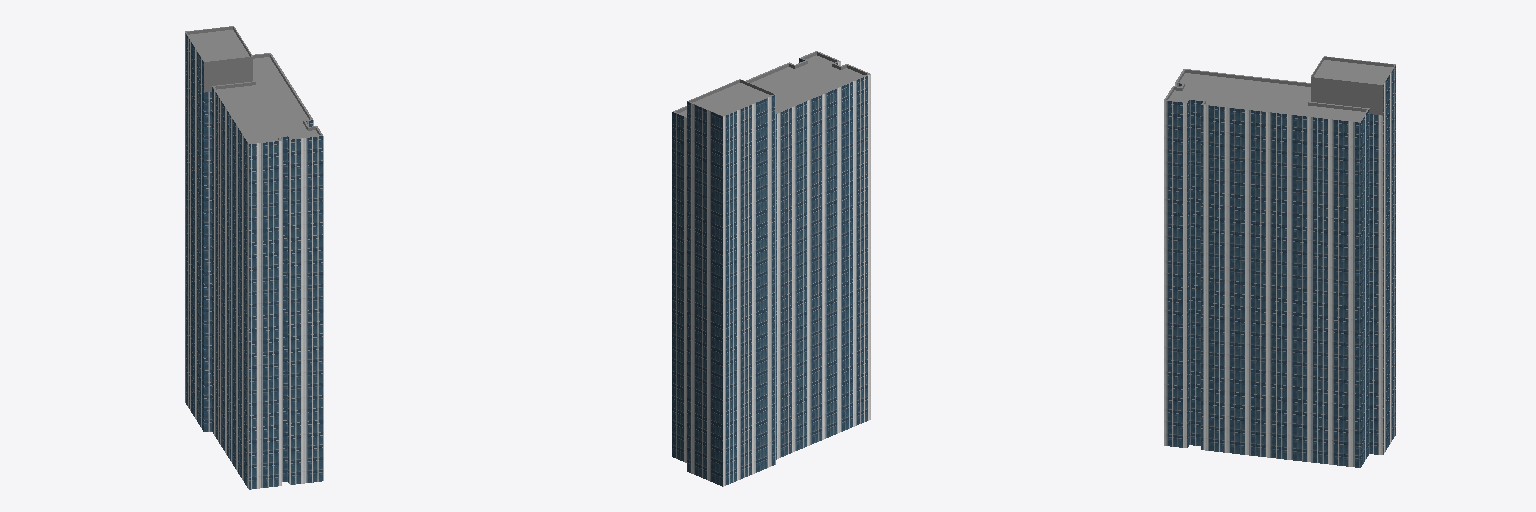
The picture shows the model from 3 angles: view 1: azimuth 30°, elevation 25°; view 2: azimuth 150°, elevation 25°; view 3: azimuth 270°, elevation 25°; orthographic projection.
Parts seen in each view (by area): view 1: JZ_JX_09; view 2: JZ_JX_09; view 3: JZ_JX_09.
Boxes of the visible parts, x1=… form: JZ_JX_09: x1=185, y1=26, x2=323, y2=489; JZ_JX_09: x1=672, y1=51, x2=870, y2=486; JZ_JX_09: x1=1164, y1=56, x2=1395, y2=467.
Bounding box in the file's own units: 3132 × 10030 × 5702.
2 materials, 1 textured.